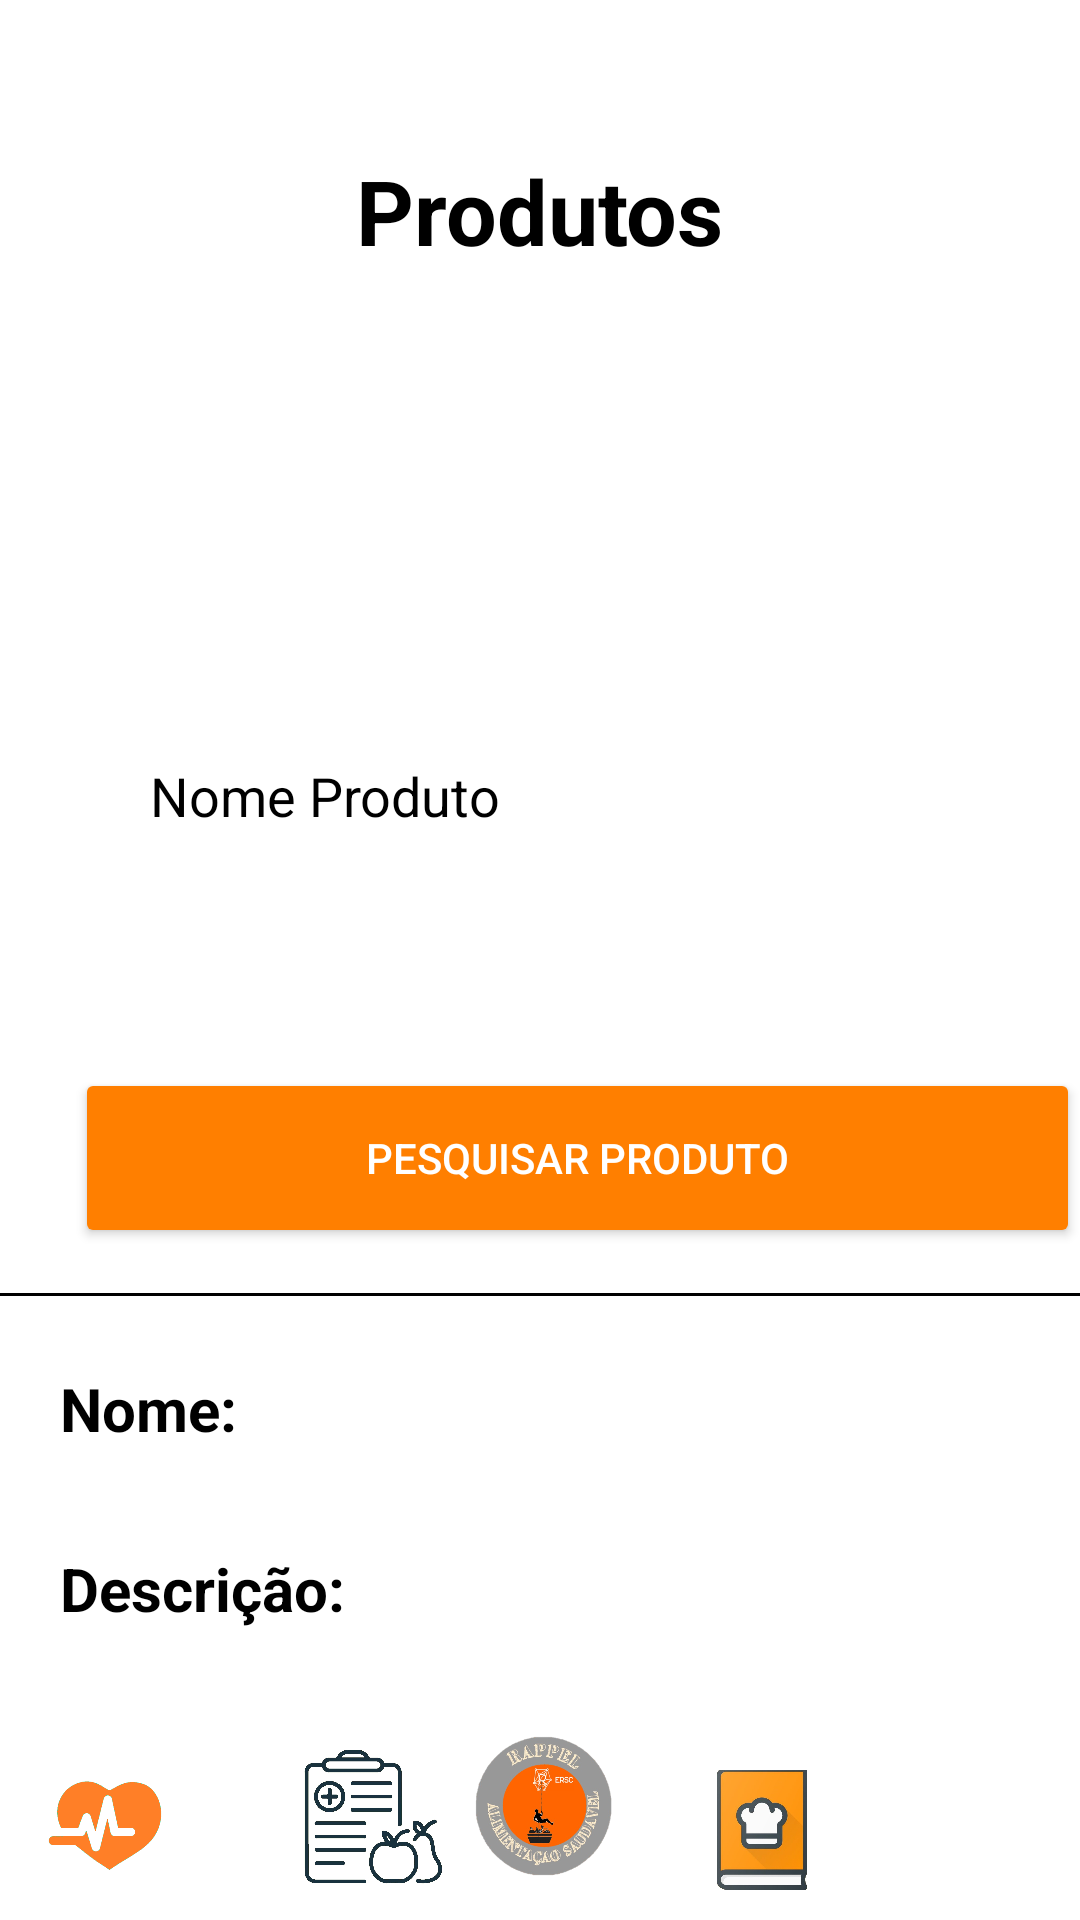

Icon click points for this 1080x1920 phone screenshot, format point (x, y):
plano: point (373, 1816)
planodesaude: point (105, 1825)
